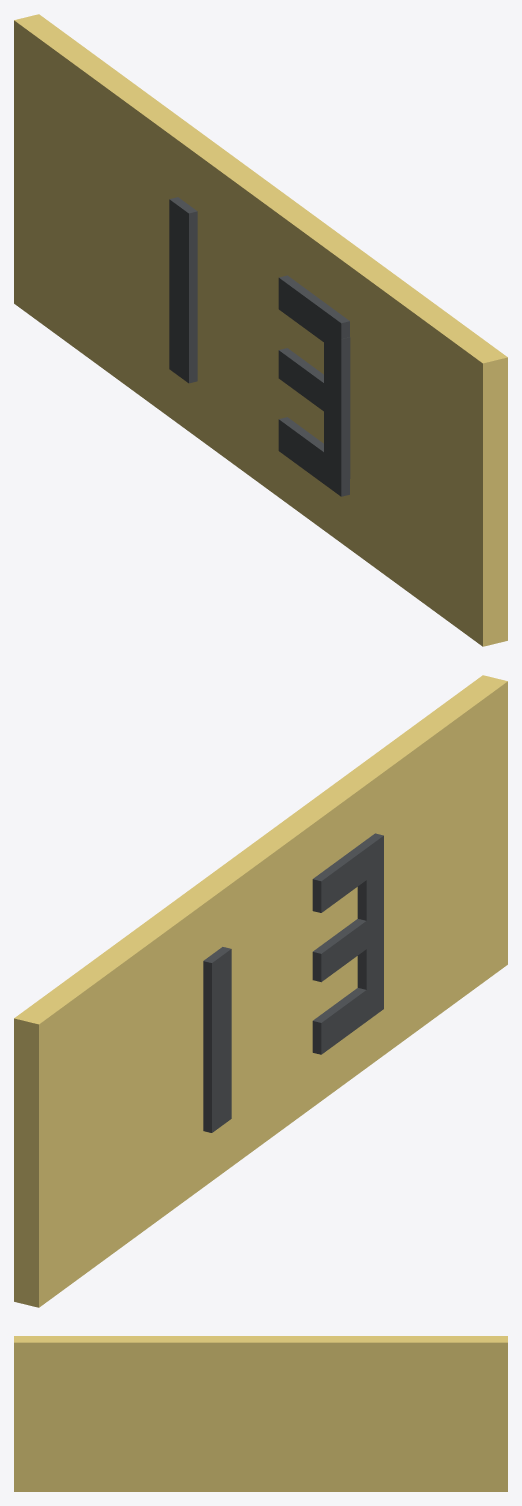
File: placa_setor_13.fbx
The picture shows the model from 3 angles, top to bottom: view 1: azimuth 30°, elevation 25°; view 2: azimuth 150°, elevation 25°; view 3: azimuth 270°, elevation 25°; orthographic projection. The views are drawn at different scales.
Parts seen in each view (by area): view 1: placa_setor_13; view 2: placa_setor_13; view 3: placa_setor_13.
Part boxes in pixels (box(x1,y1,x2,y2)): placa_setor_13: box(14, 14, 507, 646); placa_setor_13: box(14, 675, 507, 1307); placa_setor_13: box(14, 1336, 507, 1491).
Bounding box in the file's own units: 5 × 40 × 120.
